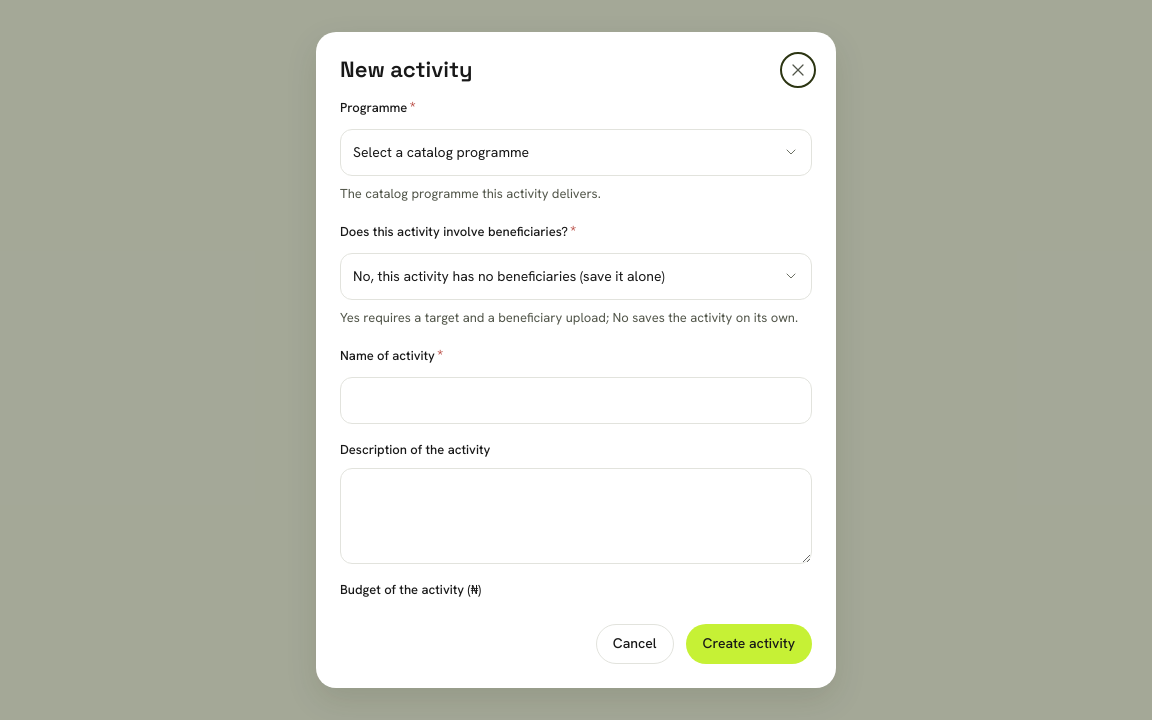
Test: ActivityFormModal › requires a funding source
Select "Cash Transfer" in the dropdown labelled "Programme" at [576, 152], box [340, 129, 812, 176]
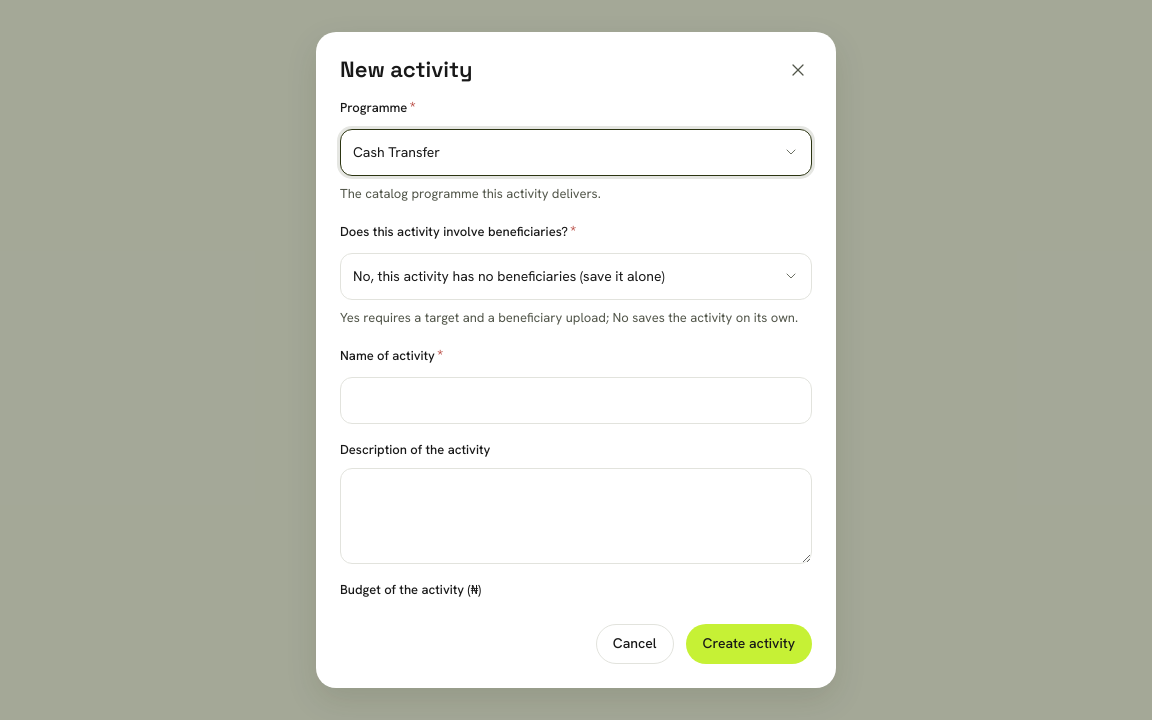
Type "Q1 Round" into the field labelled "Name of activity" at [576, 400], box [340, 377, 812, 424]
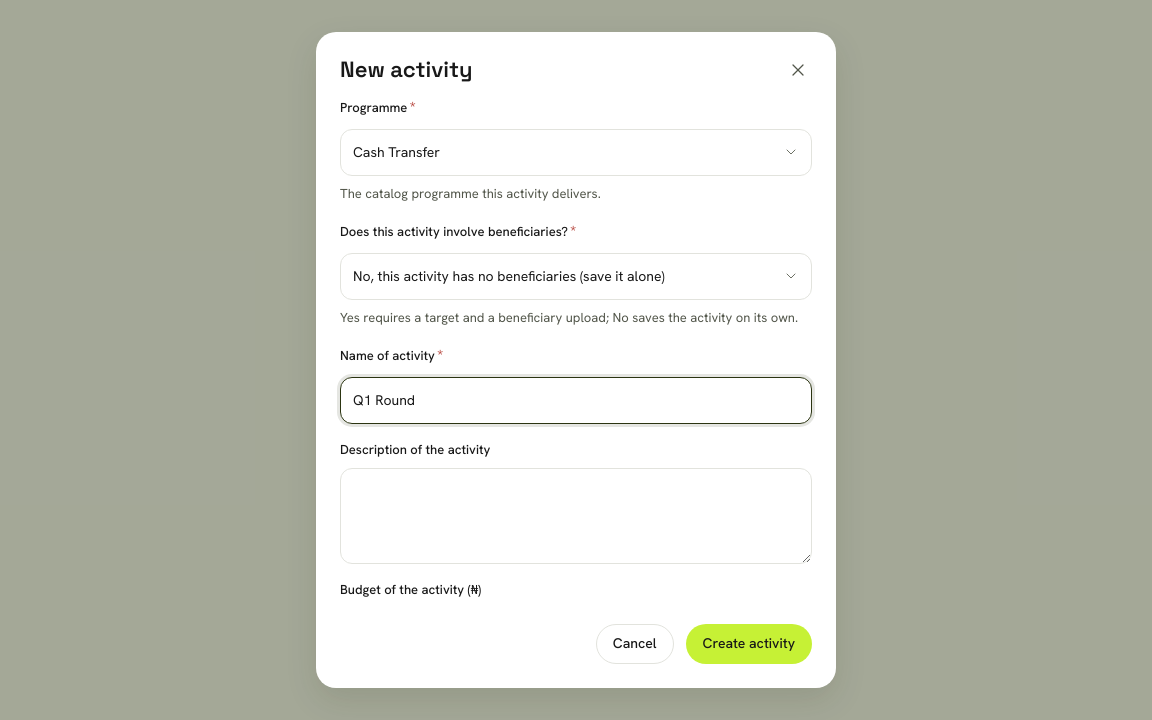
Click the button "Create activity" at [749, 644], box [686, 624, 812, 664]
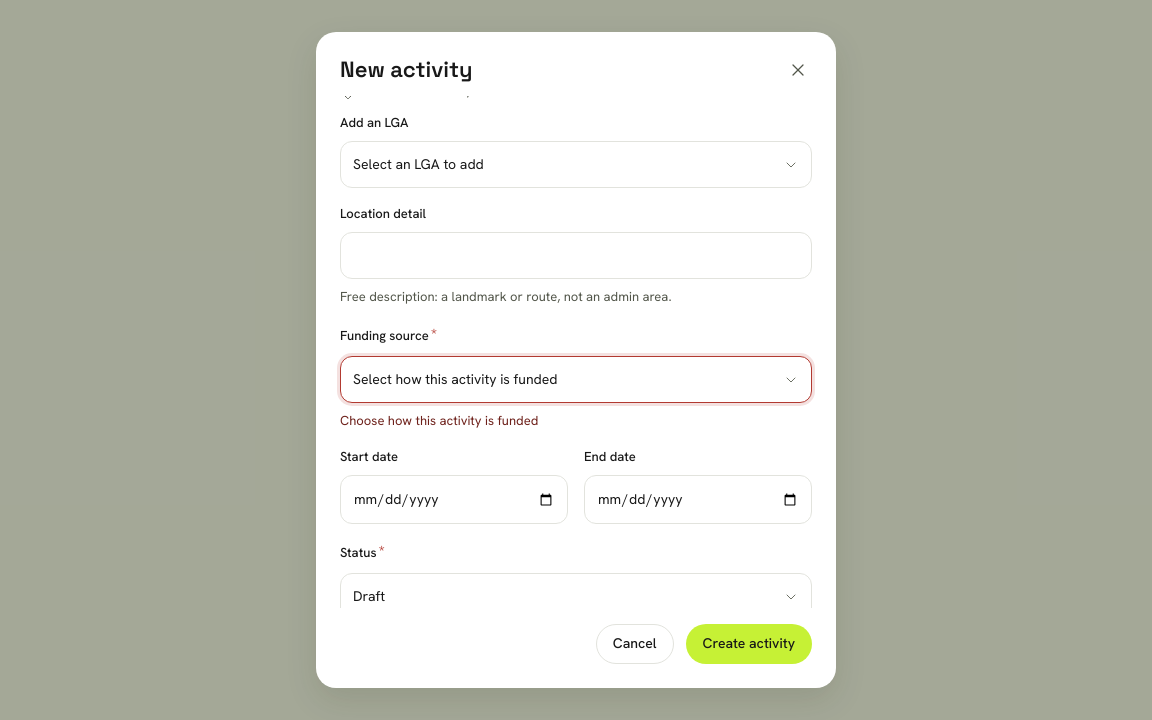
Result: the text "Choose how this activity is funded" is shown at [340, 412, 538, 429]
